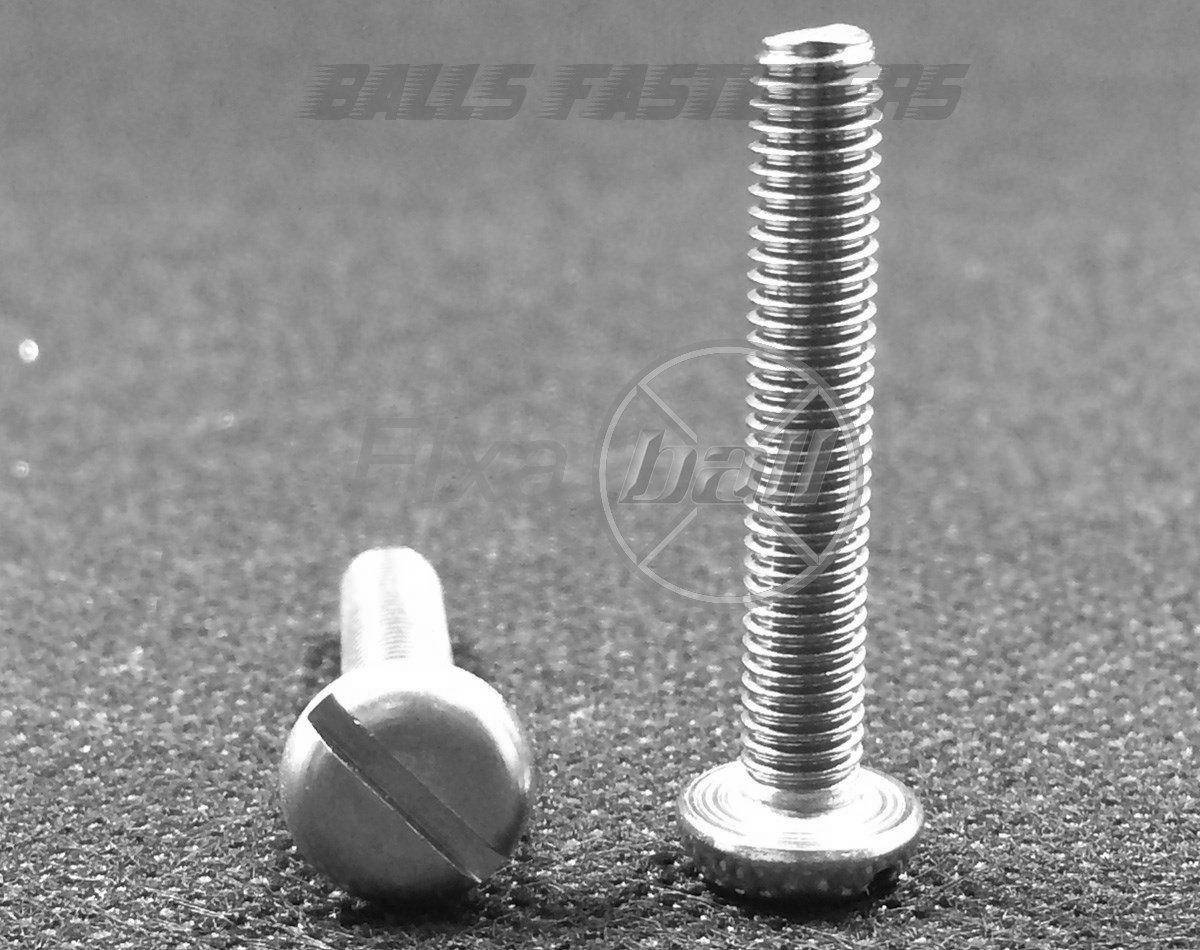screw: (283, 668, 531, 925)
